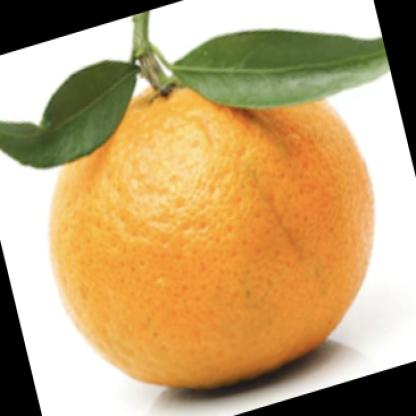fresh: (48, 73, 376, 371)
